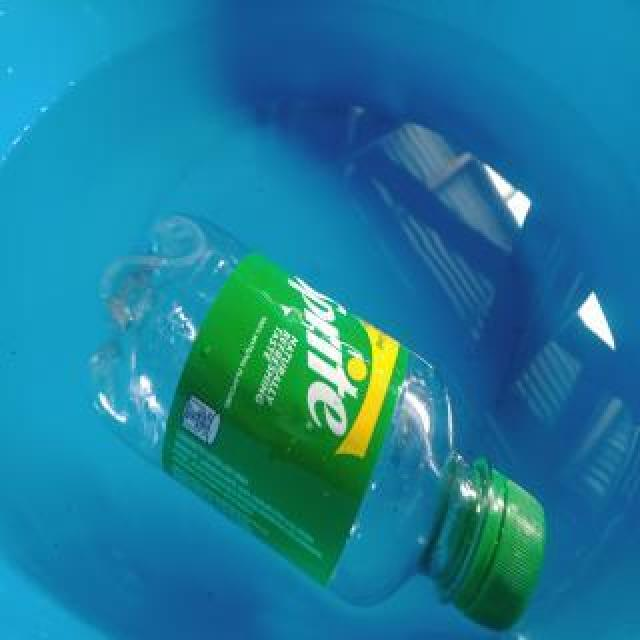bottle: (79, 211, 545, 631)
